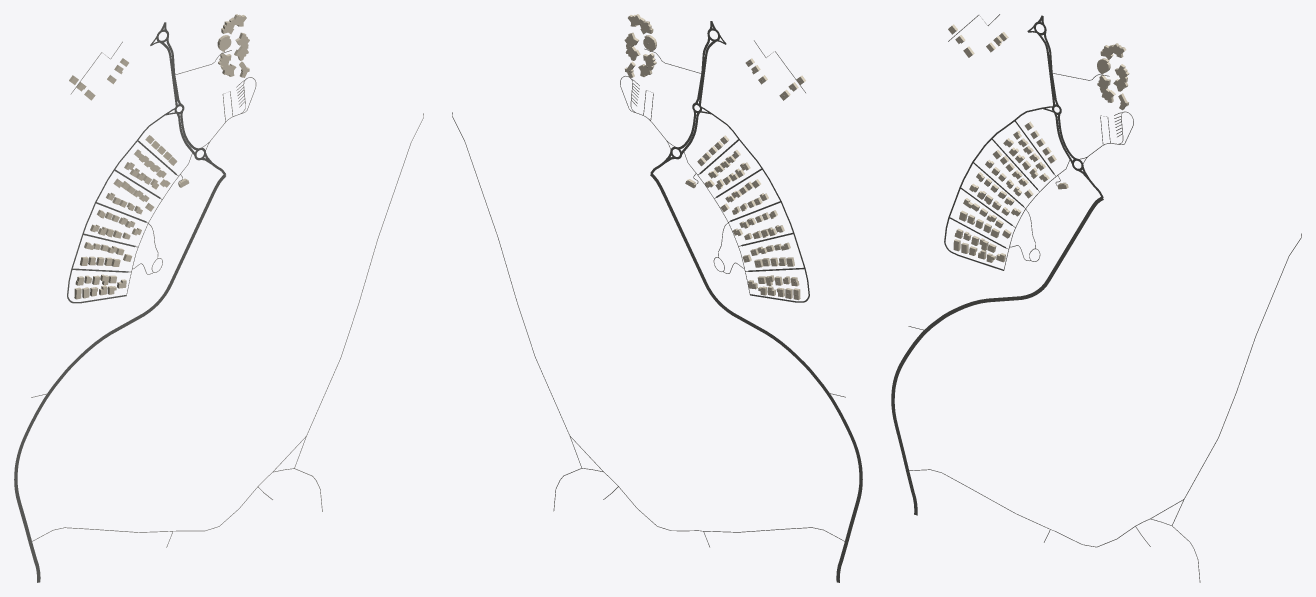
File: historic-palestine-05_22_3468_3165.glb
3 renders of one model, left to right at view 1: azimuth 30°, elevation 25°; view 2: azimuth 150°, elevation 25°; view 3: azimuth 330°, elevation 25°, orthographic.
Parts seen in each view (by area): view 1: Road 3612; view 2: Road 3612, Road .019; view 3: Road 3612.
Boxes of the visible parts, bbox=[...] form: Road 3612: bbox=[14, 174, 225, 582]; Road 3612: bbox=[650, 174, 862, 582]; Road .019: bbox=[711, 113, 809, 302]; Road 3612: bbox=[891, 197, 1103, 515].
Bounding box in the file's own units: 948 × 1172 × 8.7.
